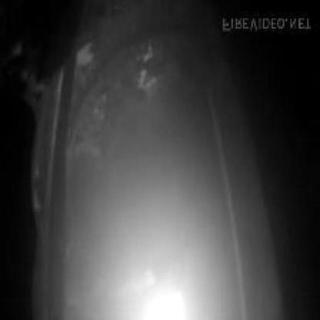other: (121, 271, 205, 319)
